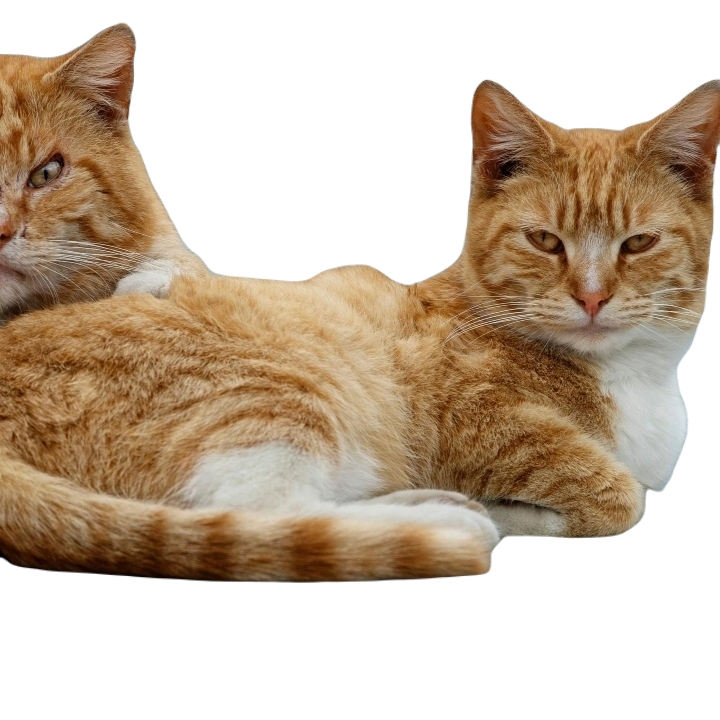Cat: (0, 73, 720, 581)
